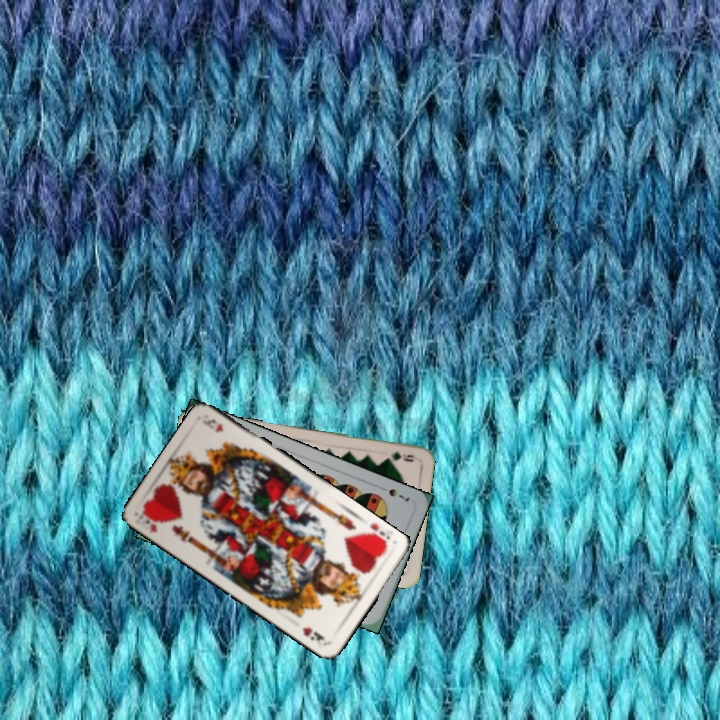G9: (387, 447, 417, 463)
HK: (358, 519, 393, 550), (133, 507, 164, 535)
S7: (375, 482, 412, 504)
